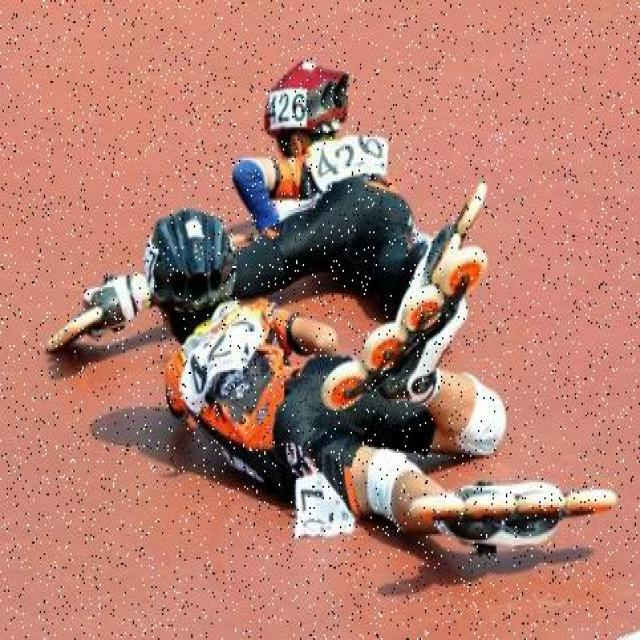fall: (138, 210, 450, 580)
